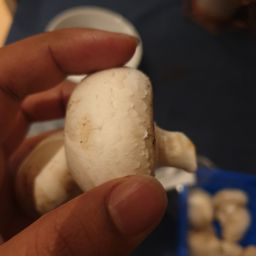Mushrooms: (49, 60, 208, 198)
